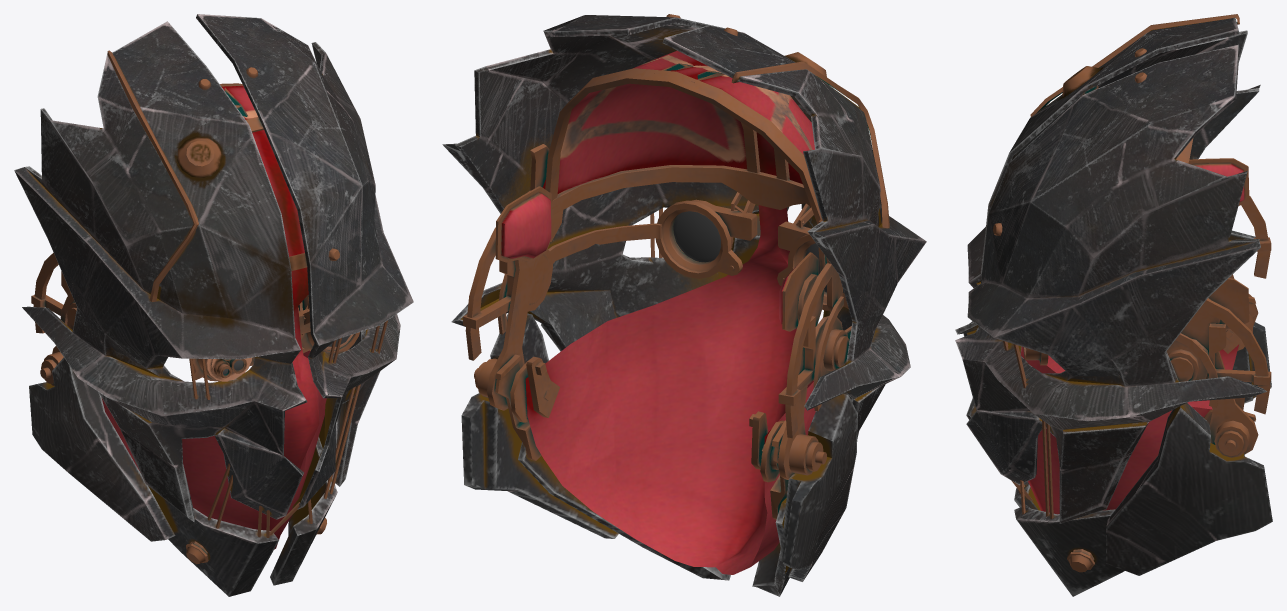
Rendered from dishonored2_mask.fbx.
3 views of the same model, side by side, from view 1: azimuth 30°, elevation 25°; view 2: azimuth 150°, elevation 25°; view 3: azimuth 270°, elevation 25° (orthographic). The views are drawn at different scales.
Visible parts, largest first — view 1: node_7e27ddfa_942e_4d4c_9084_9bcc0093ba03_mesh0, node_066107bf_0916_481b_baa7_6951612a8b17_mesh0, node_43defde2_317d_4438_8dae_b9640a7231a8_mesh0, node_1c74e309_631e_4658_a0ef_6441dc343a31_mesh0, node_d14fda32_c616_4792_96d7_01fd48e1282c_mesh0, node_189158f3_a09a_4de0_aa5a_deb3d3d81f52_mesh0, node_748e381d_ae0e_403e_964c_4b377ba9d091_mesh0, node_5a298785_5898_4ff3_a2fe_01e5dfca1b81_mesh0, node_132fe1ee_2b29_47f1_bb0d_09d5b995e707_mesh0, node_5082daf5_a325_4198_8cb6_49ffb65fe57f_mesh0; view 2: node_80619e12_0d43_4512_93bf_a7e958909cc5_mesh0, node_7e27ddfa_942e_4d4c_9084_9bcc0093ba03_mesh0, node_066107bf_0916_481b_baa7_6951612a8b17_mesh0, node_057032e7_cda4_48df_9fb0_620e5fee636c_mesh0, node_5a298785_5898_4ff3_a2fe_01e5dfca1b81_mesh0, node_e2a943c8_81ed_447d_a6c8_dd9901019447_mesh0, node_43defde2_317d_4438_8dae_b9640a7231a8_mesh0, node_132fe1ee_2b29_47f1_bb0d_09d5b995e707_mesh0, node_786ea1c4_d6aa_43a1_ae1c_f6260b605936_mesh0, node_6d002745_c6bf_4e1e_89d1_6480bf187c6d_mesh0, node_1c74e309_631e_4658_a0ef_6441dc343a31_mesh0, node_e1f91d1c_67f3_404d_8eb3_0011d8f8fa24_mesh0 (+3 smaller); view 3: node_7e27ddfa_942e_4d4c_9084_9bcc0093ba03_mesh0, node_066107bf_0916_481b_baa7_6951612a8b17_mesh0, node_1c74e309_631e_4658_a0ef_6441dc343a31_mesh0, node_5a298785_5898_4ff3_a2fe_01e5dfca1b81_mesh0, node_43defde2_317d_4438_8dae_b9640a7231a8_mesh0, node_e2a943c8_81ed_447d_a6c8_dd9901019447_mesh0, node_6d002745_c6bf_4e1e_89d1_6480bf187c6d_mesh0, node_e1f91d1c_67f3_404d_8eb3_0011d8f8fa24_mesh0, node_d14fda32_c616_4792_96d7_01fd48e1282c_mesh0, node_189158f3_a09a_4de0_aa5a_deb3d3d81f52_mesh0, node_786ea1c4_d6aa_43a1_ae1c_f6260b605936_mesh0, node_748e381d_ae0e_403e_964c_4b377ba9d091_mesh0 (+2 smaller).
Part boxes in pixels (bbox=[...]): node_7e27ddfa_942e_4d4c_9084_9bcc0093ba03_mesh0: bbox=[14, 14, 413, 521]; node_066107bf_0916_481b_baa7_6951612a8b17_mesh0: bbox=[29, 357, 339, 541]; node_43defde2_317d_4438_8dae_b9640a7231a8_mesh0: bbox=[101, 85, 326, 549]; node_1c74e309_631e_4658_a0ef_6441dc343a31_mesh0: bbox=[148, 437, 337, 596]; node_d14fda32_c616_4792_96d7_01fd48e1282c_mesh0: bbox=[177, 67, 339, 564]; node_189158f3_a09a_4de0_aa5a_deb3d3d81f52_mesh0: bbox=[189, 320, 387, 537]; node_748e381d_ae0e_403e_964c_4b377ba9d091_mesh0: bbox=[107, 50, 198, 301]; node_5a298785_5898_4ff3_a2fe_01e5dfca1b81_mesh0: bbox=[31, 253, 73, 333]; node_132fe1ee_2b29_47f1_bb0d_09d5b995e707_mesh0: bbox=[191, 305, 359, 381]; node_5082daf5_a325_4198_8cb6_49ffb65fe57f_mesh0: bbox=[205, 357, 251, 381]; node_80619e12_0d43_4512_93bf_a7e958909cc5_mesh0: bbox=[526, 83, 813, 573]; node_7e27ddfa_942e_4d4c_9084_9bcc0093ba03_mesh0: bbox=[442, 15, 926, 438]; node_066107bf_0916_481b_baa7_6951612a8b17_mesh0: bbox=[461, 313, 857, 581]; node_057032e7_cda4_48df_9fb0_620e5fee636c_mesh0: bbox=[545, 63, 826, 271]; node_5a298785_5898_4ff3_a2fe_01e5dfca1b81_mesh0: bbox=[463, 144, 842, 438]; node_e2a943c8_81ed_447d_a6c8_dd9901019447_mesh0: bbox=[487, 223, 851, 479]; node_43defde2_317d_4438_8dae_b9640a7231a8_mesh0: bbox=[525, 50, 815, 574]; node_132fe1ee_2b29_47f1_bb0d_09d5b995e707_mesh0: bbox=[655, 199, 848, 310]; node_786ea1c4_d6aa_43a1_ae1c_f6260b605936_mesh0: bbox=[495, 274, 843, 519]; node_6d002745_c6bf_4e1e_89d1_6480bf187c6d_mesh0: bbox=[495, 186, 818, 331]; node_1c74e309_631e_4658_a0ef_6441dc343a31_mesh0: bbox=[518, 442, 790, 596]; node_e1f91d1c_67f3_404d_8eb3_0011d8f8fa24_mesh0: bbox=[474, 249, 842, 475]; node_7e27ddfa_942e_4d4c_9084_9bcc0093ba03_mesh0: bbox=[955, 17, 1266, 523]; node_066107bf_0916_481b_baa7_6951612a8b17_mesh0: bbox=[1106, 322, 1272, 575]; node_1c74e309_631e_4658_a0ef_6441dc343a31_mesh0: bbox=[1014, 481, 1124, 596]; node_5a298785_5898_4ff3_a2fe_01e5dfca1b81_mesh0: bbox=[1199, 196, 1271, 414]; node_43defde2_317d_4438_8dae_b9640a7231a8_mesh0: bbox=[1021, 344, 1238, 514]; node_e2a943c8_81ed_447d_a6c8_dd9901019447_mesh0: bbox=[1181, 274, 1258, 454]; node_6d002745_c6bf_4e1e_89d1_6480bf187c6d_mesh0: bbox=[1188, 158, 1249, 329]; node_e1f91d1c_67f3_404d_8eb3_0011d8f8fa24_mesh0: bbox=[1166, 339, 1250, 457]; node_d14fda32_c616_4792_96d7_01fd48e1282c_mesh0: bbox=[993, 48, 1146, 572]; node_189158f3_a09a_4de0_aa5a_deb3d3d81f52_mesh0: bbox=[1003, 341, 1053, 518]; node_786ea1c4_d6aa_43a1_ae1c_f6260b605936_mesh0: bbox=[1175, 296, 1256, 425]; node_748e381d_ae0e_403e_964c_4b377ba9d091_mesh0: bbox=[1030, 14, 1239, 116].
Size of the model in its own units: 1551 by 2416 by 1280.
1 material, 1 textured.
